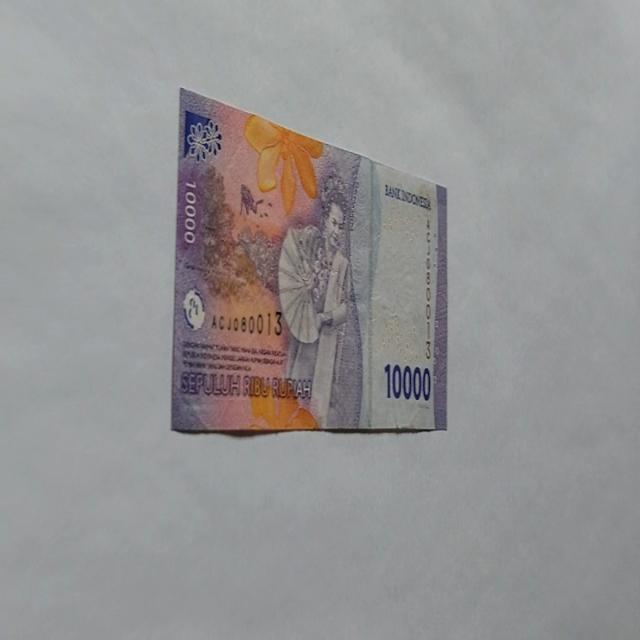sepuluh ribu rupiah: (170, 86, 448, 436)
